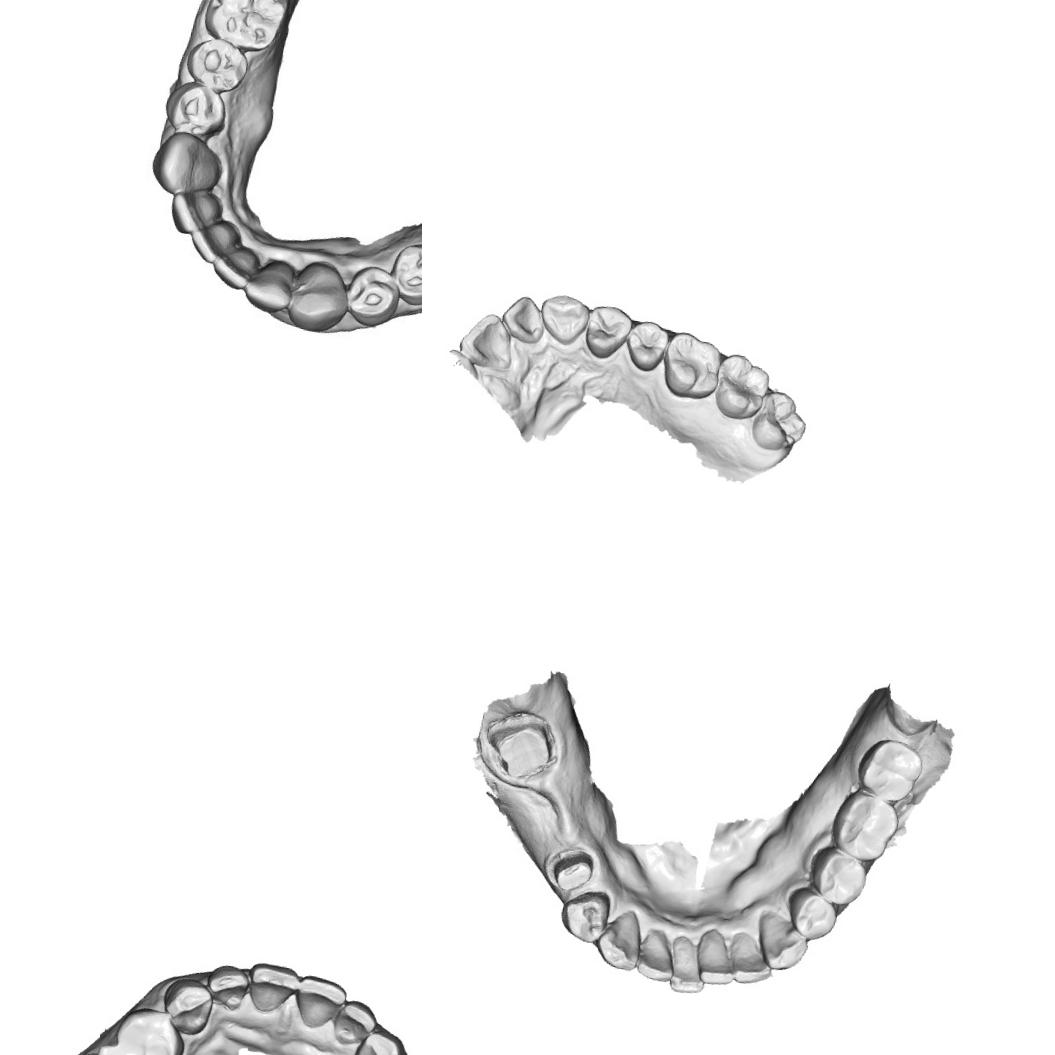canine: (148, 127, 228, 202), (284, 256, 354, 336), (748, 908, 816, 976), (156, 972, 220, 1040), (590, 904, 647, 974), (535, 290, 593, 350), (347, 1025, 408, 1055)
crown: (478, 706, 564, 788), (544, 844, 598, 896)
incisor: (456, 308, 520, 371), (290, 971, 352, 1035), (242, 958, 303, 1019), (721, 928, 780, 990), (690, 926, 745, 990), (241, 255, 297, 317), (628, 924, 684, 986), (662, 932, 711, 999), (166, 186, 224, 239), (328, 995, 381, 1052), (187, 214, 241, 268), (202, 960, 254, 1014), (498, 292, 548, 346), (209, 242, 261, 293)
molar: (825, 788, 904, 868), (852, 733, 928, 809), (199, 0, 293, 59), (656, 328, 725, 404), (710, 351, 774, 424), (747, 387, 811, 455)
premolar: (802, 842, 873, 911), (108, 1001, 191, 1055), (161, 76, 231, 140), (182, 33, 252, 96), (342, 262, 404, 332), (780, 883, 844, 947), (554, 884, 616, 950), (581, 302, 635, 363), (620, 316, 672, 374), (386, 238, 422, 310)
